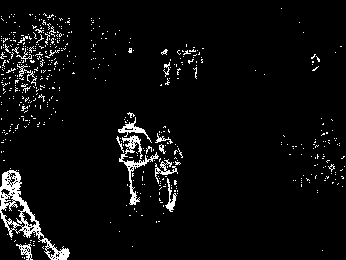person: (1, 169, 71, 260), (117, 109, 155, 208), (151, 124, 184, 213)
